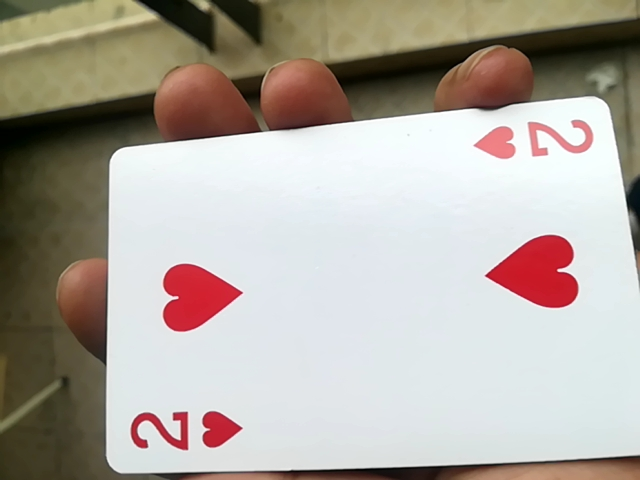hx 2: (81, 95, 634, 476)
